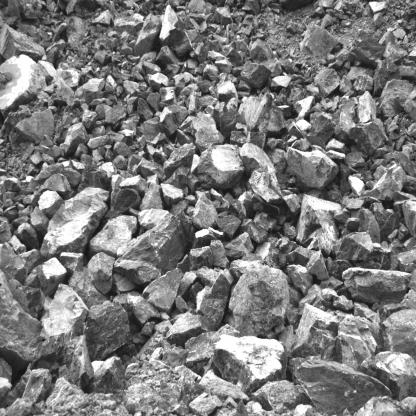stone: (113, 209, 188, 285), (293, 359, 392, 416), (208, 335, 289, 395), (41, 188, 111, 255), (229, 260, 289, 337), (0, 268, 42, 371), (36, 286, 87, 355), (290, 302, 346, 362), (297, 194, 349, 255), (82, 298, 131, 362), (0, 55, 46, 120), (360, 350, 416, 400), (342, 268, 409, 307), (196, 270, 234, 330), (285, 147, 339, 188), (238, 92, 288, 136), (198, 144, 244, 189), (88, 215, 137, 253), (337, 316, 375, 365), (23, 258, 67, 299), (166, 309, 212, 348), (380, 309, 416, 356), (252, 379, 303, 412), (143, 268, 181, 312), (159, 6, 192, 54), (0, 24, 46, 58), (15, 108, 56, 144), (62, 337, 92, 384), (247, 164, 283, 203), (133, 13, 163, 58), (380, 78, 414, 117), (124, 383, 168, 413), (20, 367, 51, 409), (300, 22, 336, 58), (193, 114, 226, 153), (368, 165, 405, 198), (336, 231, 373, 262), (354, 29, 385, 66), (305, 110, 334, 149), (350, 123, 385, 155), (58, 121, 89, 157), (163, 144, 195, 178), (87, 254, 114, 294), (93, 357, 124, 391), (241, 142, 272, 174), (106, 187, 139, 217), (373, 59, 401, 93), (239, 62, 271, 90), (191, 195, 217, 229), (374, 206, 399, 241), (160, 105, 190, 134), (186, 393, 222, 416), (140, 175, 163, 210), (358, 209, 380, 243), (305, 249, 328, 281), (164, 165, 190, 193), (75, 78, 105, 102), (224, 233, 255, 256), (80, 167, 111, 190), (50, 83, 76, 110), (186, 245, 213, 271), (242, 217, 269, 243), (38, 174, 73, 194), (113, 13, 146, 34), (317, 69, 340, 98), (334, 111, 356, 140), (250, 37, 275, 62), (288, 266, 311, 293), (219, 111, 242, 138), (27, 204, 49, 232), (136, 159, 164, 180), (230, 130, 266, 146), (137, 118, 162, 141), (39, 191, 62, 216), (161, 183, 187, 205), (357, 93, 376, 123), (216, 216, 241, 238), (402, 200, 416, 239), (104, 105, 131, 125), (395, 150, 416, 175), (286, 247, 314, 265), (157, 46, 180, 67), (119, 175, 147, 192), (255, 212, 278, 232), (215, 79, 238, 99), (294, 96, 314, 119), (398, 247, 416, 272), (382, 43, 406, 60), (346, 66, 374, 80), (227, 199, 246, 219), (354, 74, 373, 94), (147, 73, 170, 89), (348, 174, 364, 196), (91, 10, 113, 26), (137, 98, 152, 120), (160, 88, 177, 107), (345, 152, 366, 167), (213, 8, 232, 24), (94, 47, 113, 63), (82, 109, 97, 129), (186, 92, 201, 111), (147, 91, 160, 112), (336, 48, 356, 61), (214, 59, 231, 74), (339, 76, 354, 93), (114, 142, 132, 156), (177, 130, 195, 144), (271, 76, 292, 88), (368, 0, 389, 11), (123, 80, 138, 95), (203, 65, 218, 80), (197, 81, 212, 95), (4, 178, 21, 190), (374, 11, 386, 27), (123, 120, 137, 133), (286, 22, 299, 33)
